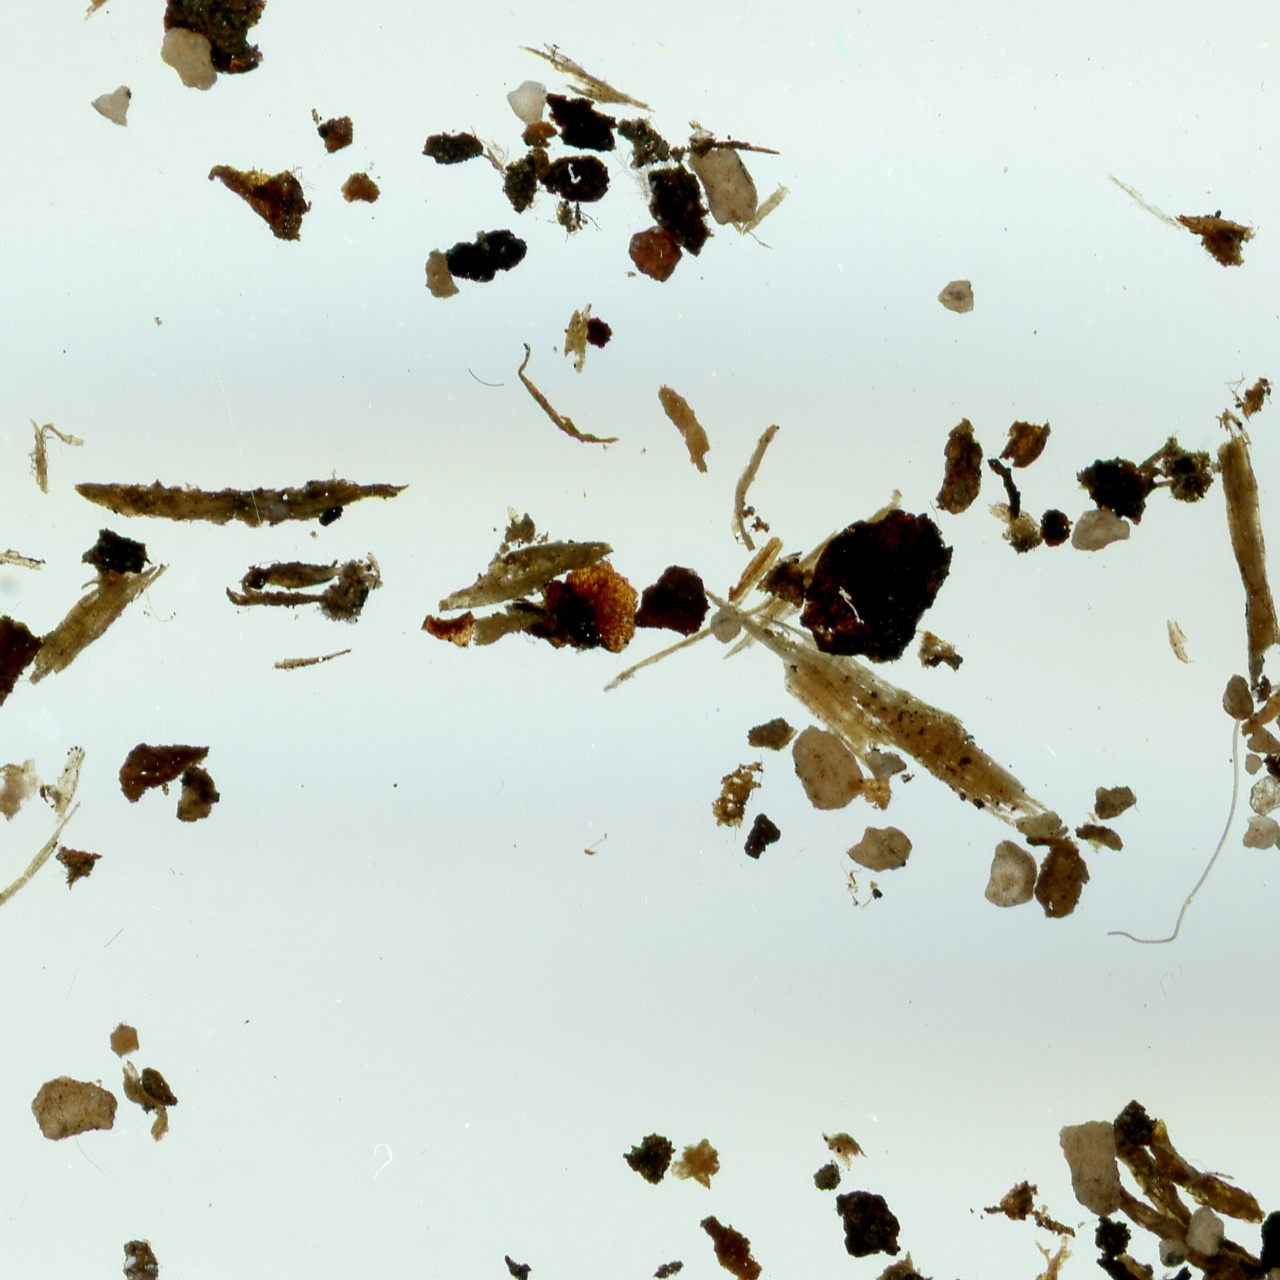arthropod: (1103, 680, 1280, 947)
